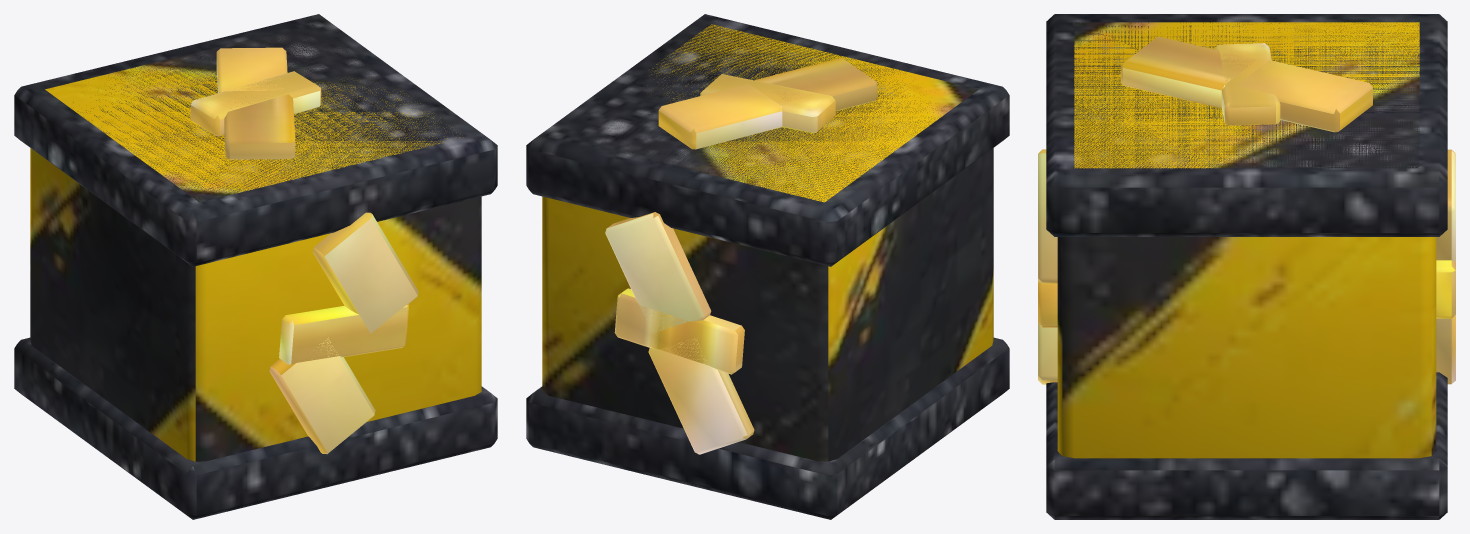
The model's file is caja_cambio.glb.
3 renders of one model, left to right at view 1: azimuth 30°, elevation 25°; view 2: azimuth 150°, elevation 25°; view 3: azimuth 270°, elevation 25°, orthographic. The views are drawn at different scales.
Visible parts, largest first — view 1: caja_cambio; view 2: caja_cambio; view 3: caja_cambio.
Part boxes in pixels (x1=…): caja_cambio: x1=14, y1=14, x2=497, y2=519; caja_cambio: x1=526, y1=14, x2=1009, y2=519; caja_cambio: x1=1038, y1=14, x2=1455, y2=519.
Size of the model in its own units: 0.96 by 0.9667 by 1.
3 materials, 3 textured.
